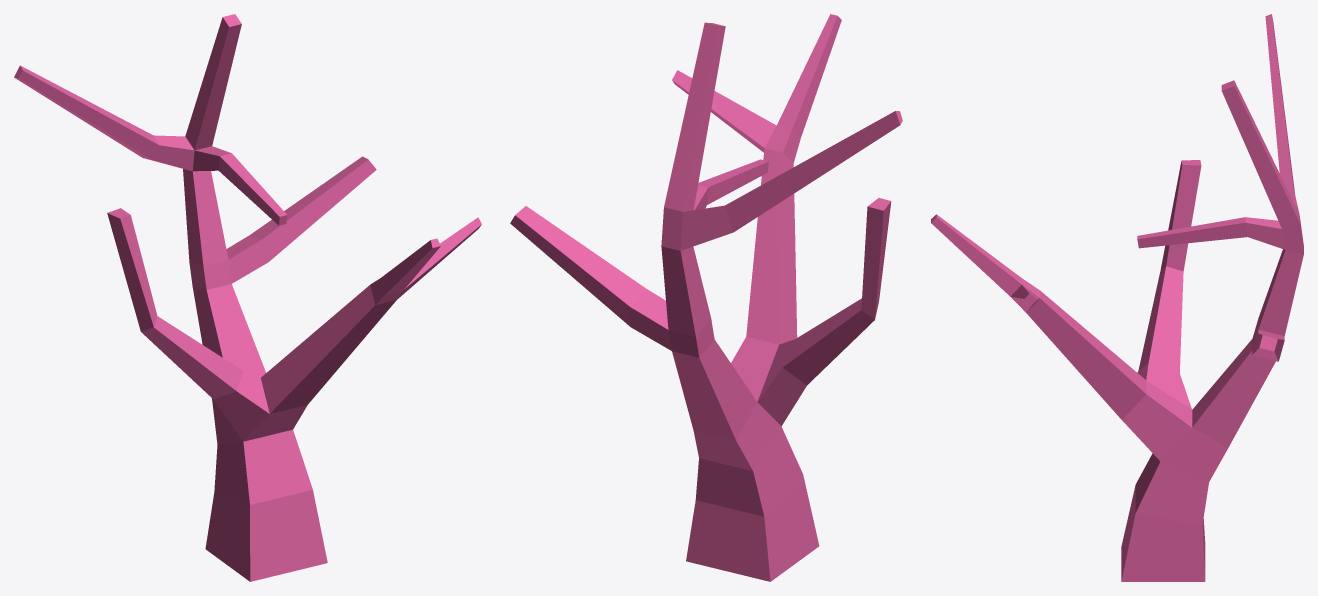
File: bushB.glb
3 renders of one model, left to right at view 1: azimuth 30°, elevation 25°; view 2: azimuth 150°, elevation 25°; view 3: azimuth 270°, elevation 25°, orthographic. The views are drawn at different scales.
Parts seen in each view (by area): view 1: Cube.001; view 2: Cube.001; view 3: Cube.001.
Boxes of the visible parts, <box> form: Cube.001: <box>14,14,481,581</box>; Cube.001: <box>510,14,902,581</box>; Cube.001: <box>931,14,1303,581</box>.
Size of the model in its own units: 0.3287 by 0.451 by 0.3168.
